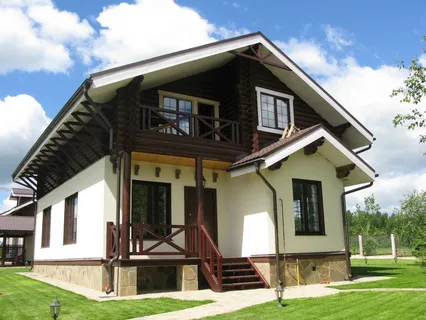private_hause: (56, 35, 364, 287)
